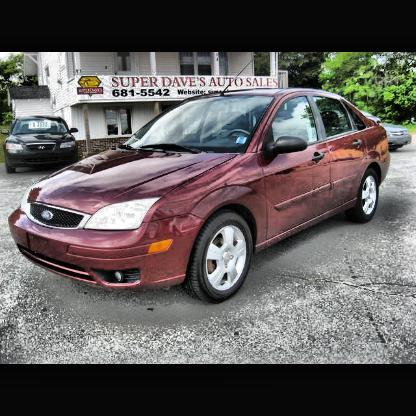Ford Focus Sedan 2007: (8, 90, 392, 303)
